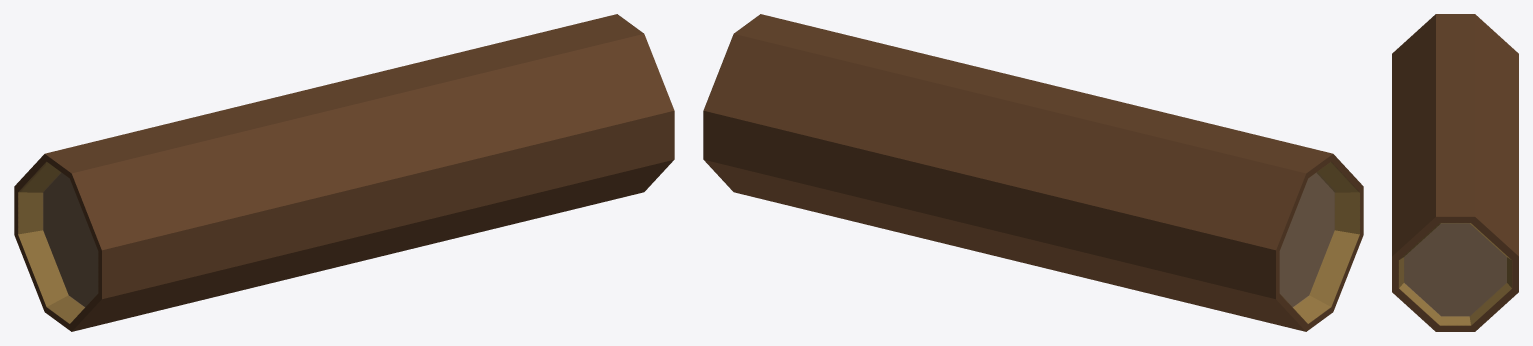
Rendered from Log.fbx.
3 views of the same model, side by side, from view 1: azimuth 30°, elevation 25°; view 2: azimuth 150°, elevation 25°; view 3: azimuth 270°, elevation 25° (orthographic). The views are drawn at different scales.
Parts seen in each view (by area): view 1: WoodPiece; view 2: WoodPiece; view 3: WoodPiece.
Part boxes in pixels (left/top/right/bottom): WoodPiece: left=14, top=14, right=674, bottom=331; WoodPiece: left=703, top=14, right=1363, bottom=331; WoodPiece: left=1392, top=14, right=1518, bottom=331.
Bounding box in the file's own units: 132 × 34.92 × 34.92.
